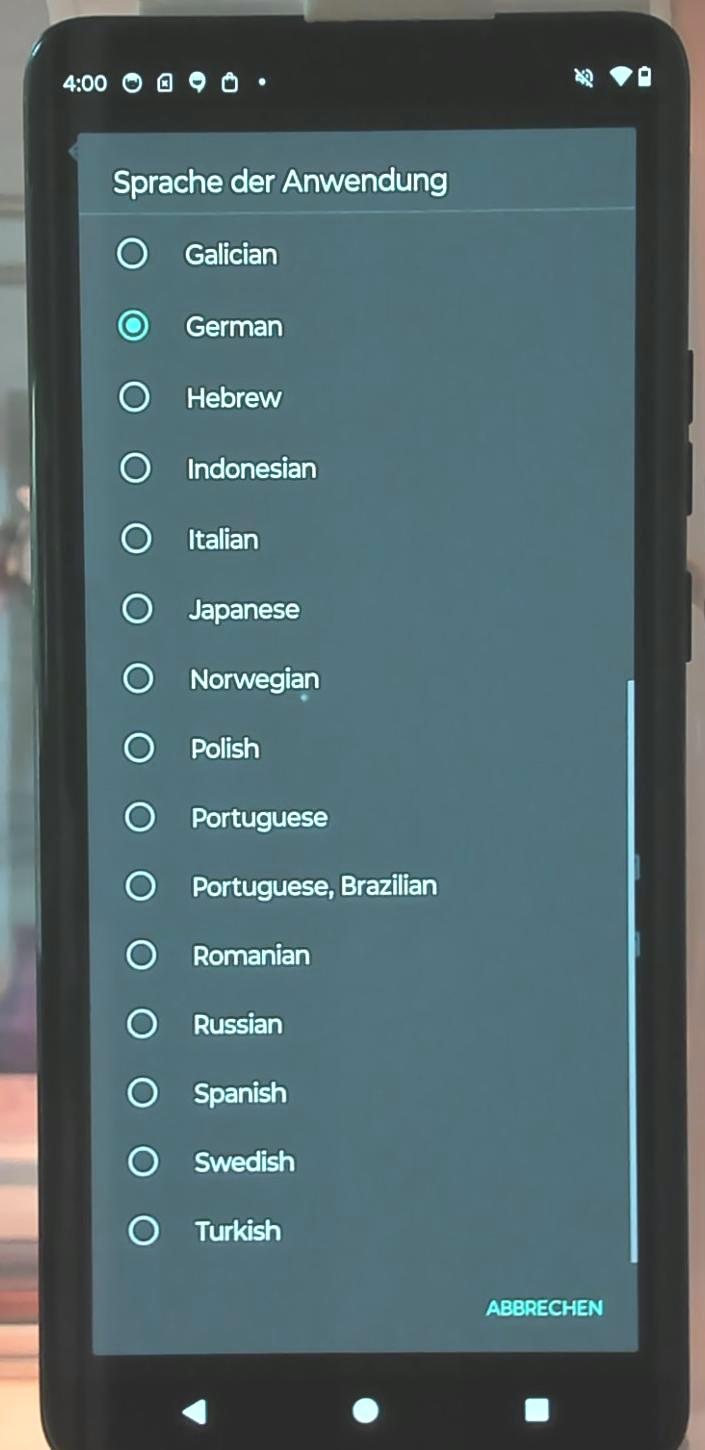RadioButton: (122, 863, 446, 905), (107, 224, 288, 281), (114, 441, 324, 490), (116, 654, 327, 701), (118, 794, 339, 838), (112, 297, 292, 351), (110, 369, 294, 421), (113, 582, 308, 631), (121, 1139, 309, 1182), (122, 1001, 295, 1047), (122, 1069, 297, 1114), (120, 1209, 296, 1252), (117, 720, 265, 770), (124, 934, 317, 972), (115, 515, 267, 561)
